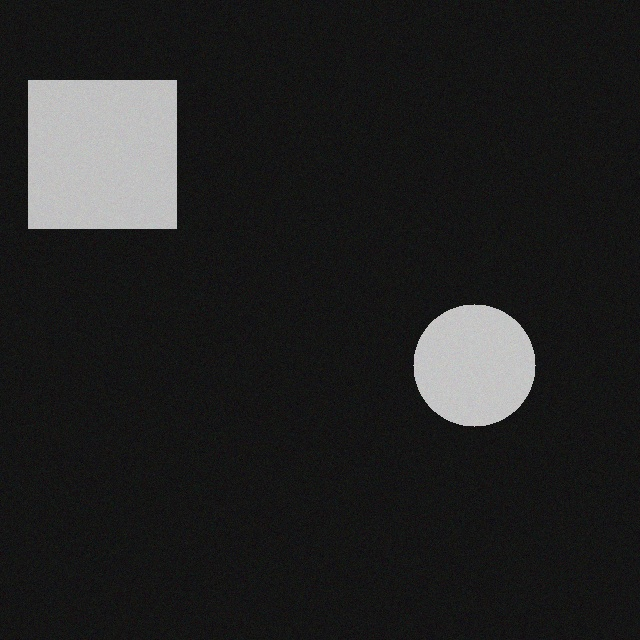circle: (415, 304, 537, 426)
square: (30, 80, 178, 228)
